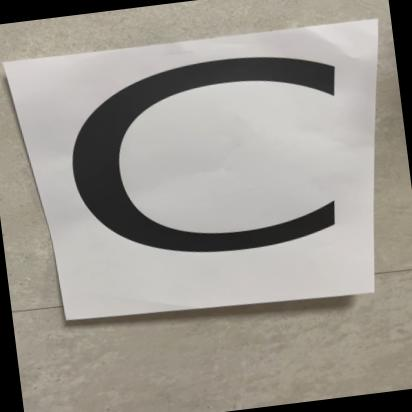seat: (17, 23, 382, 324)
